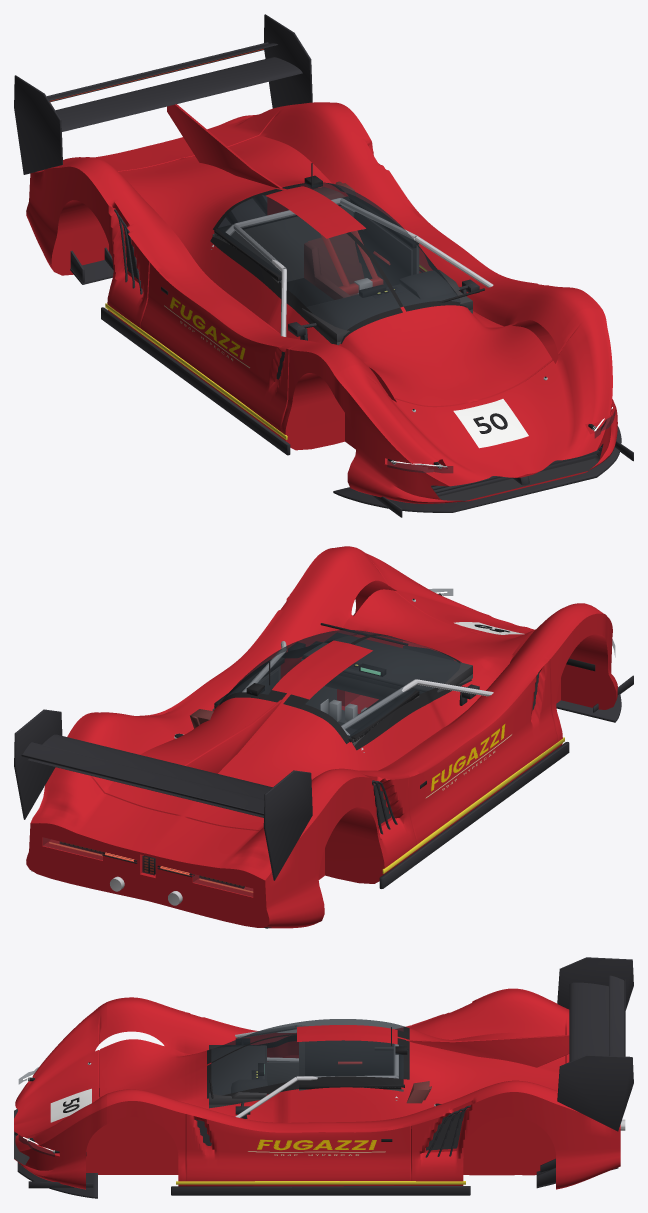
Rendered from fugazzi_994p.glb.
3 views of the same model, one above another, from view 1: azimuth 30°, elevation 25°; view 2: azimuth 150°, elevation 25°; view 3: azimuth 270°, elevation 25° (orthographic). The views are drawn at different scales.
Visible parts, largest first — view 1: fugazzi_994p; view 2: fugazzi_994p; view 3: fugazzi_994p.
Boxes of the visible parts, <box> form: fugazzi_994p: <box>14,14,633,517</box>; fugazzi_994p: <box>14,546,633,928</box>; fugazzi_994p: <box>14,957,633,1198</box>.
Size of the model in its own units: 2.14 by 1.25 by 5.09.
25 materials, 1 textured.
